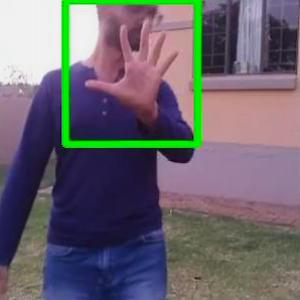follow_hand: (84, 16, 184, 113)
